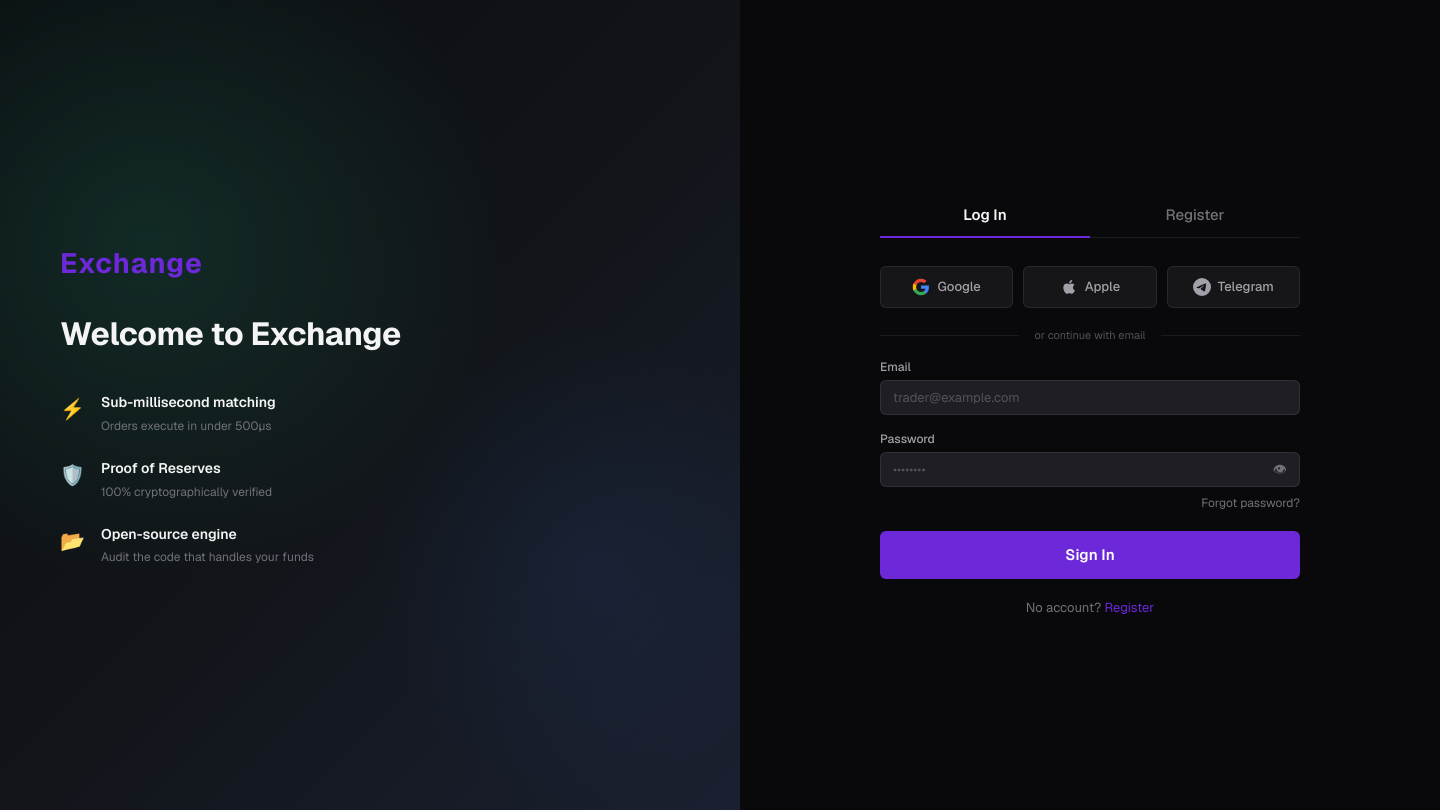
Test: AuthPage › switches to register tab
Click the tab "Register" at x=1195, y=215, box [1090,193,1300,238]
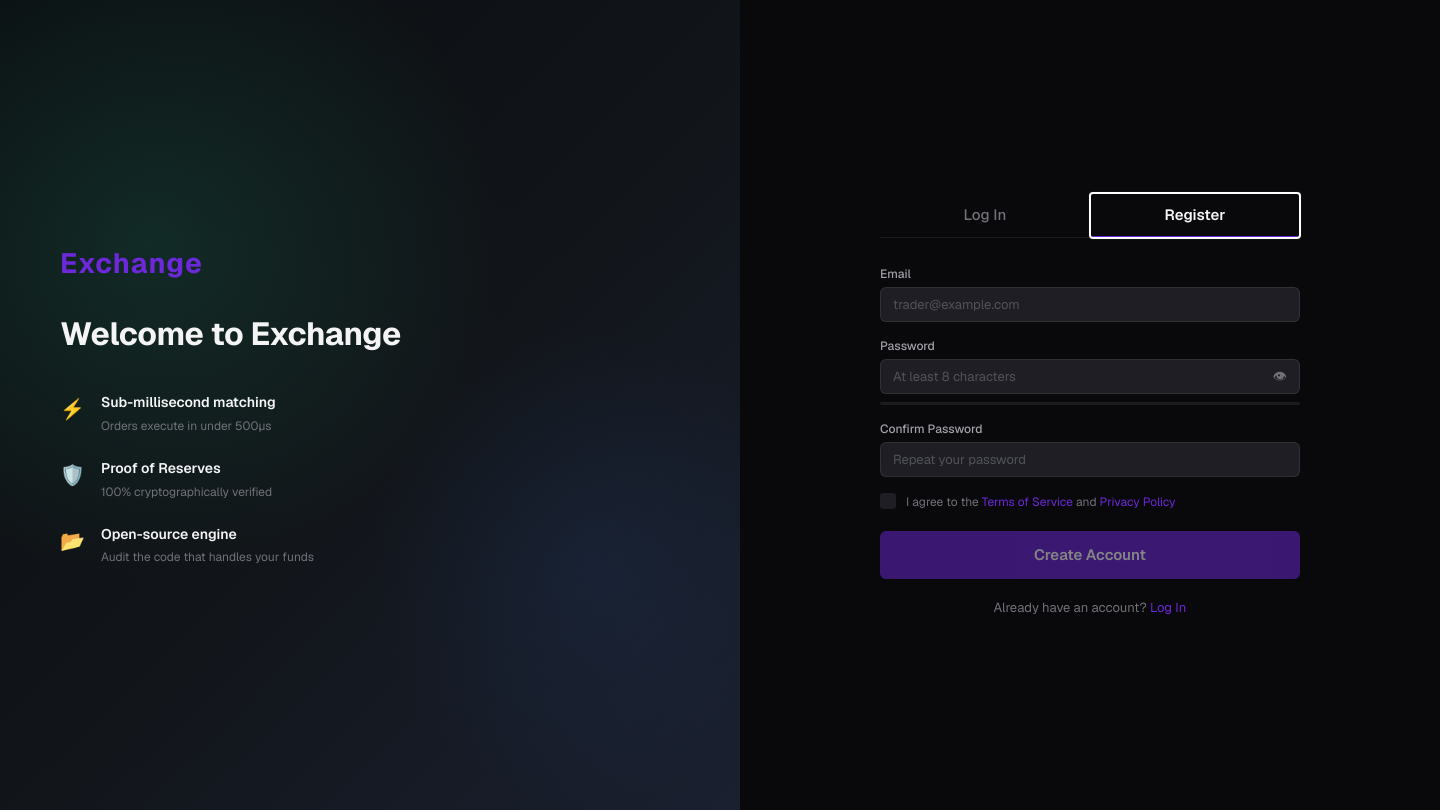
Check: the button "Create Account" is shown, box [880,531,1300,579]
